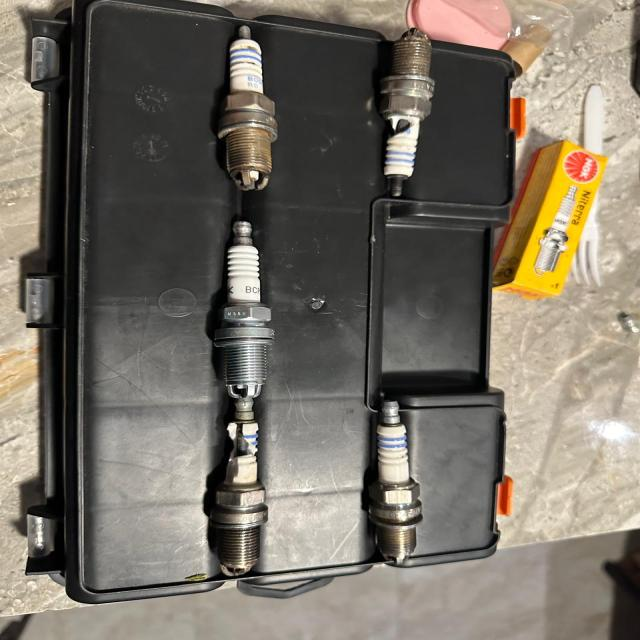damaged_spark-plug: (367, 25, 453, 201), (212, 397, 275, 578)
spark-plug: (210, 25, 278, 196), (365, 397, 429, 568), (213, 217, 270, 400)
